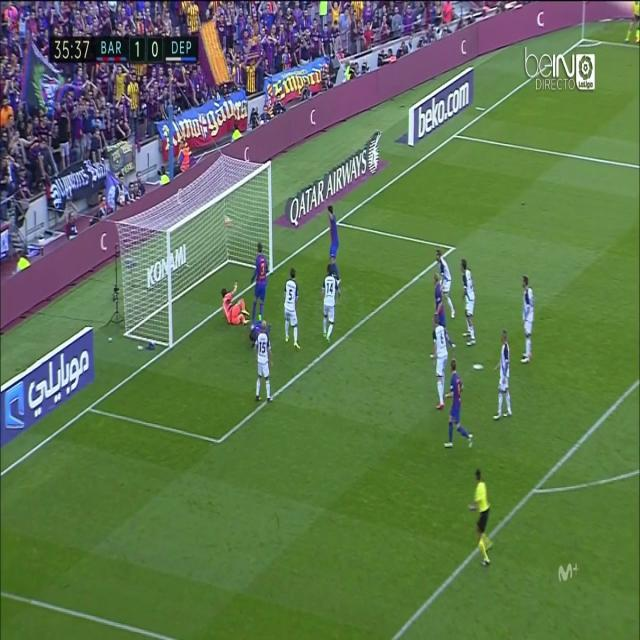Ball: (224, 213, 233, 230)
Goalkeeper: (220, 280, 250, 328)
Player: (440, 358, 476, 450), (490, 327, 514, 427), (430, 313, 450, 413), (252, 320, 272, 407), (282, 265, 302, 352), (518, 272, 536, 368), (460, 255, 478, 349), (321, 264, 341, 348), (435, 248, 457, 320), (252, 242, 270, 327), (324, 200, 342, 272), (432, 273, 449, 329)
Referee: (468, 468, 497, 569), (622, 0, 640, 47)
